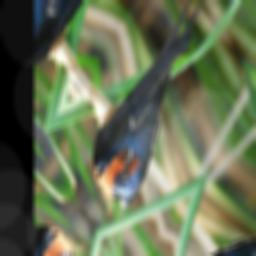Swallow: (73, 0, 238, 220)
